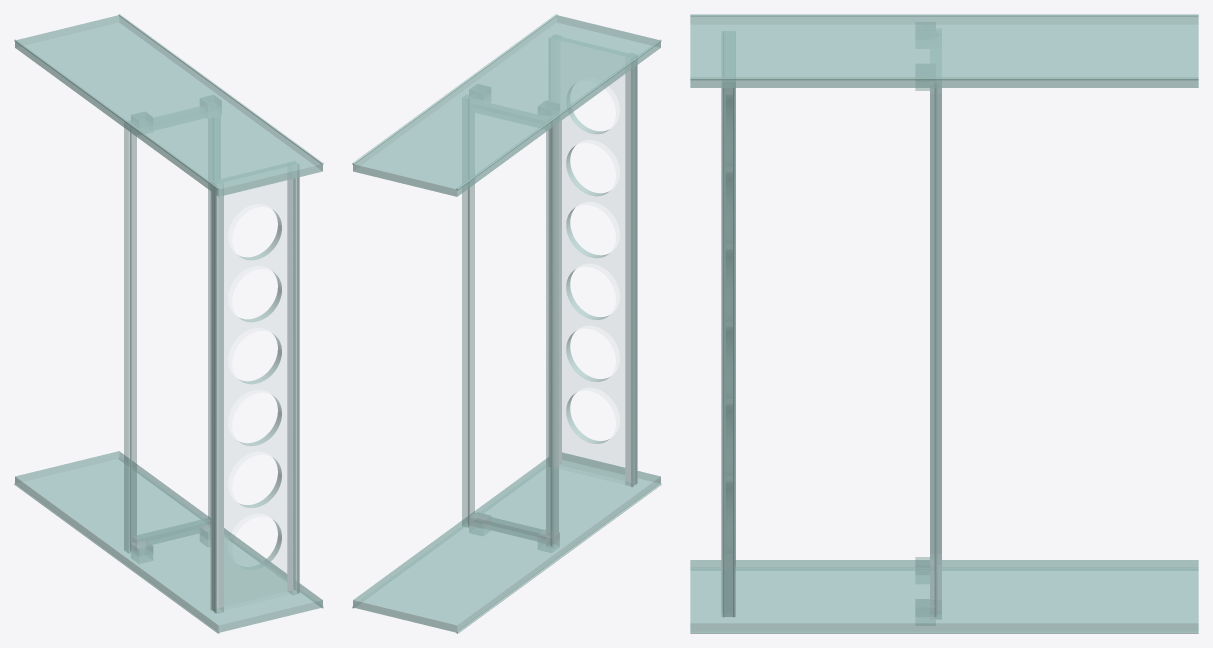
File: local.glb
3 views of the same model, side by side, from view 1: azimuth 30°, elevation 25°; view 2: azimuth 150°, elevation 25°; view 3: azimuth 270°, elevation 25° (orthographic). The views are drawn at different scales.
Parts seen in each view (by area): view 1: tube_rack, 4_5b9810; view 2: tube_rack, 4_5b9810; view 3: tube_rack, 4_5b9810.
Part boxes in pixels (x1=…): tube_rack: x1=14, y1=14, x2=323, y2=633; 4_5b9810: x1=212, y1=162, x2=296, y2=611; tube_rack: x1=352, y1=14, x2=661, y2=633; 4_5b9810: x1=555, y1=37, x2=636, y2=485; tube_rack: x1=690, y1=14, x2=1198, y2=633; 4_5b9810: x1=724, y1=35, x2=734, y2=616.
Bounding box in the file's own units: 0.0448 × 0.1798 × 0.149.
